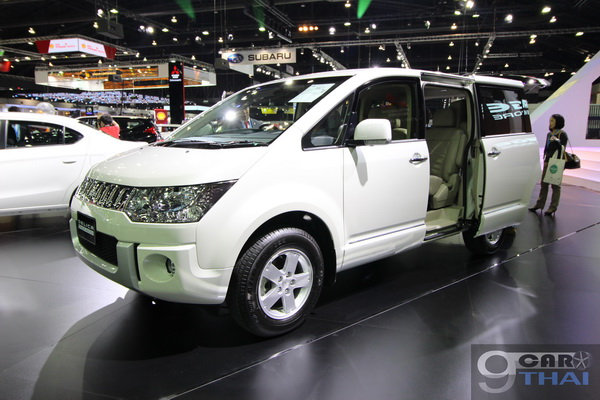van: (69, 66, 538, 336)
